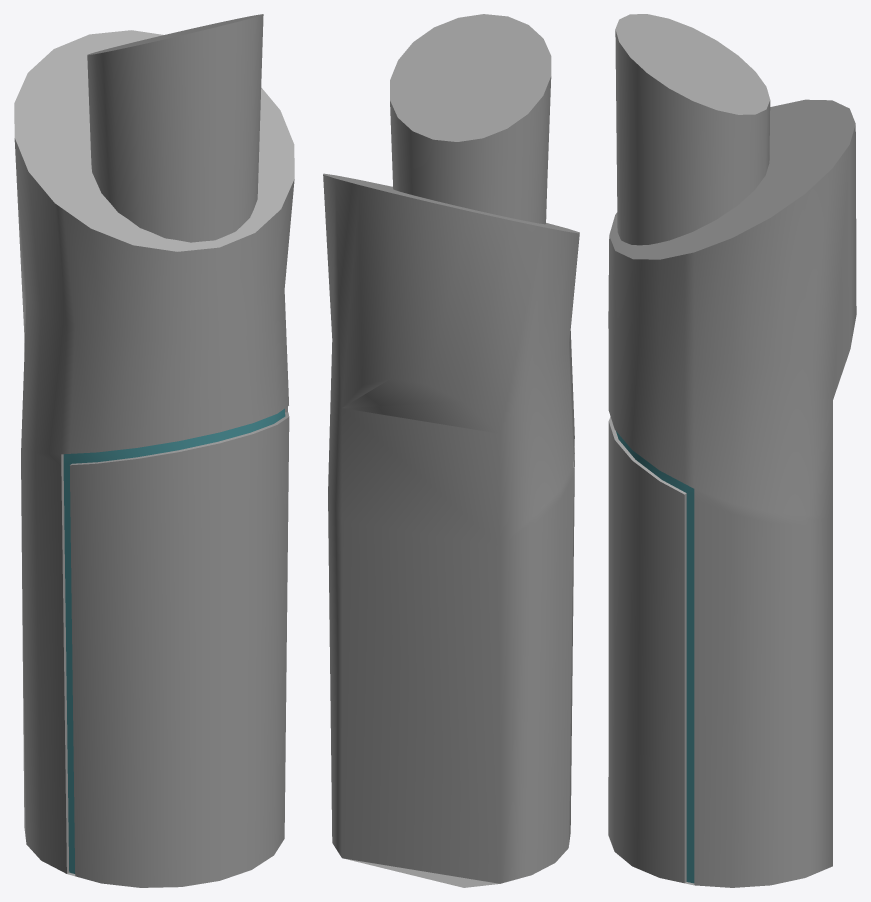
The model's file is bg_building_2.fbx.
The picture shows the model from 3 angles, left to right: view 1: azimuth 30°, elevation 25°; view 2: azimuth 150°, elevation 25°; view 3: azimuth 270°, elevation 25°; orthographic projection. The views are drawn at different scales.
Visible parts, largest first — view 1: pCylinder3; view 2: pCylinder3; view 3: pCylinder3.
Part boxes in pixels (bbox=[...]): pCylinder3: bbox=[14, 14, 294, 887]; pCylinder3: bbox=[323, 14, 579, 887]; pCylinder3: bbox=[608, 14, 856, 887].
Bounding box in the file's own units: 14.55 × 46.96 × 13.09.
